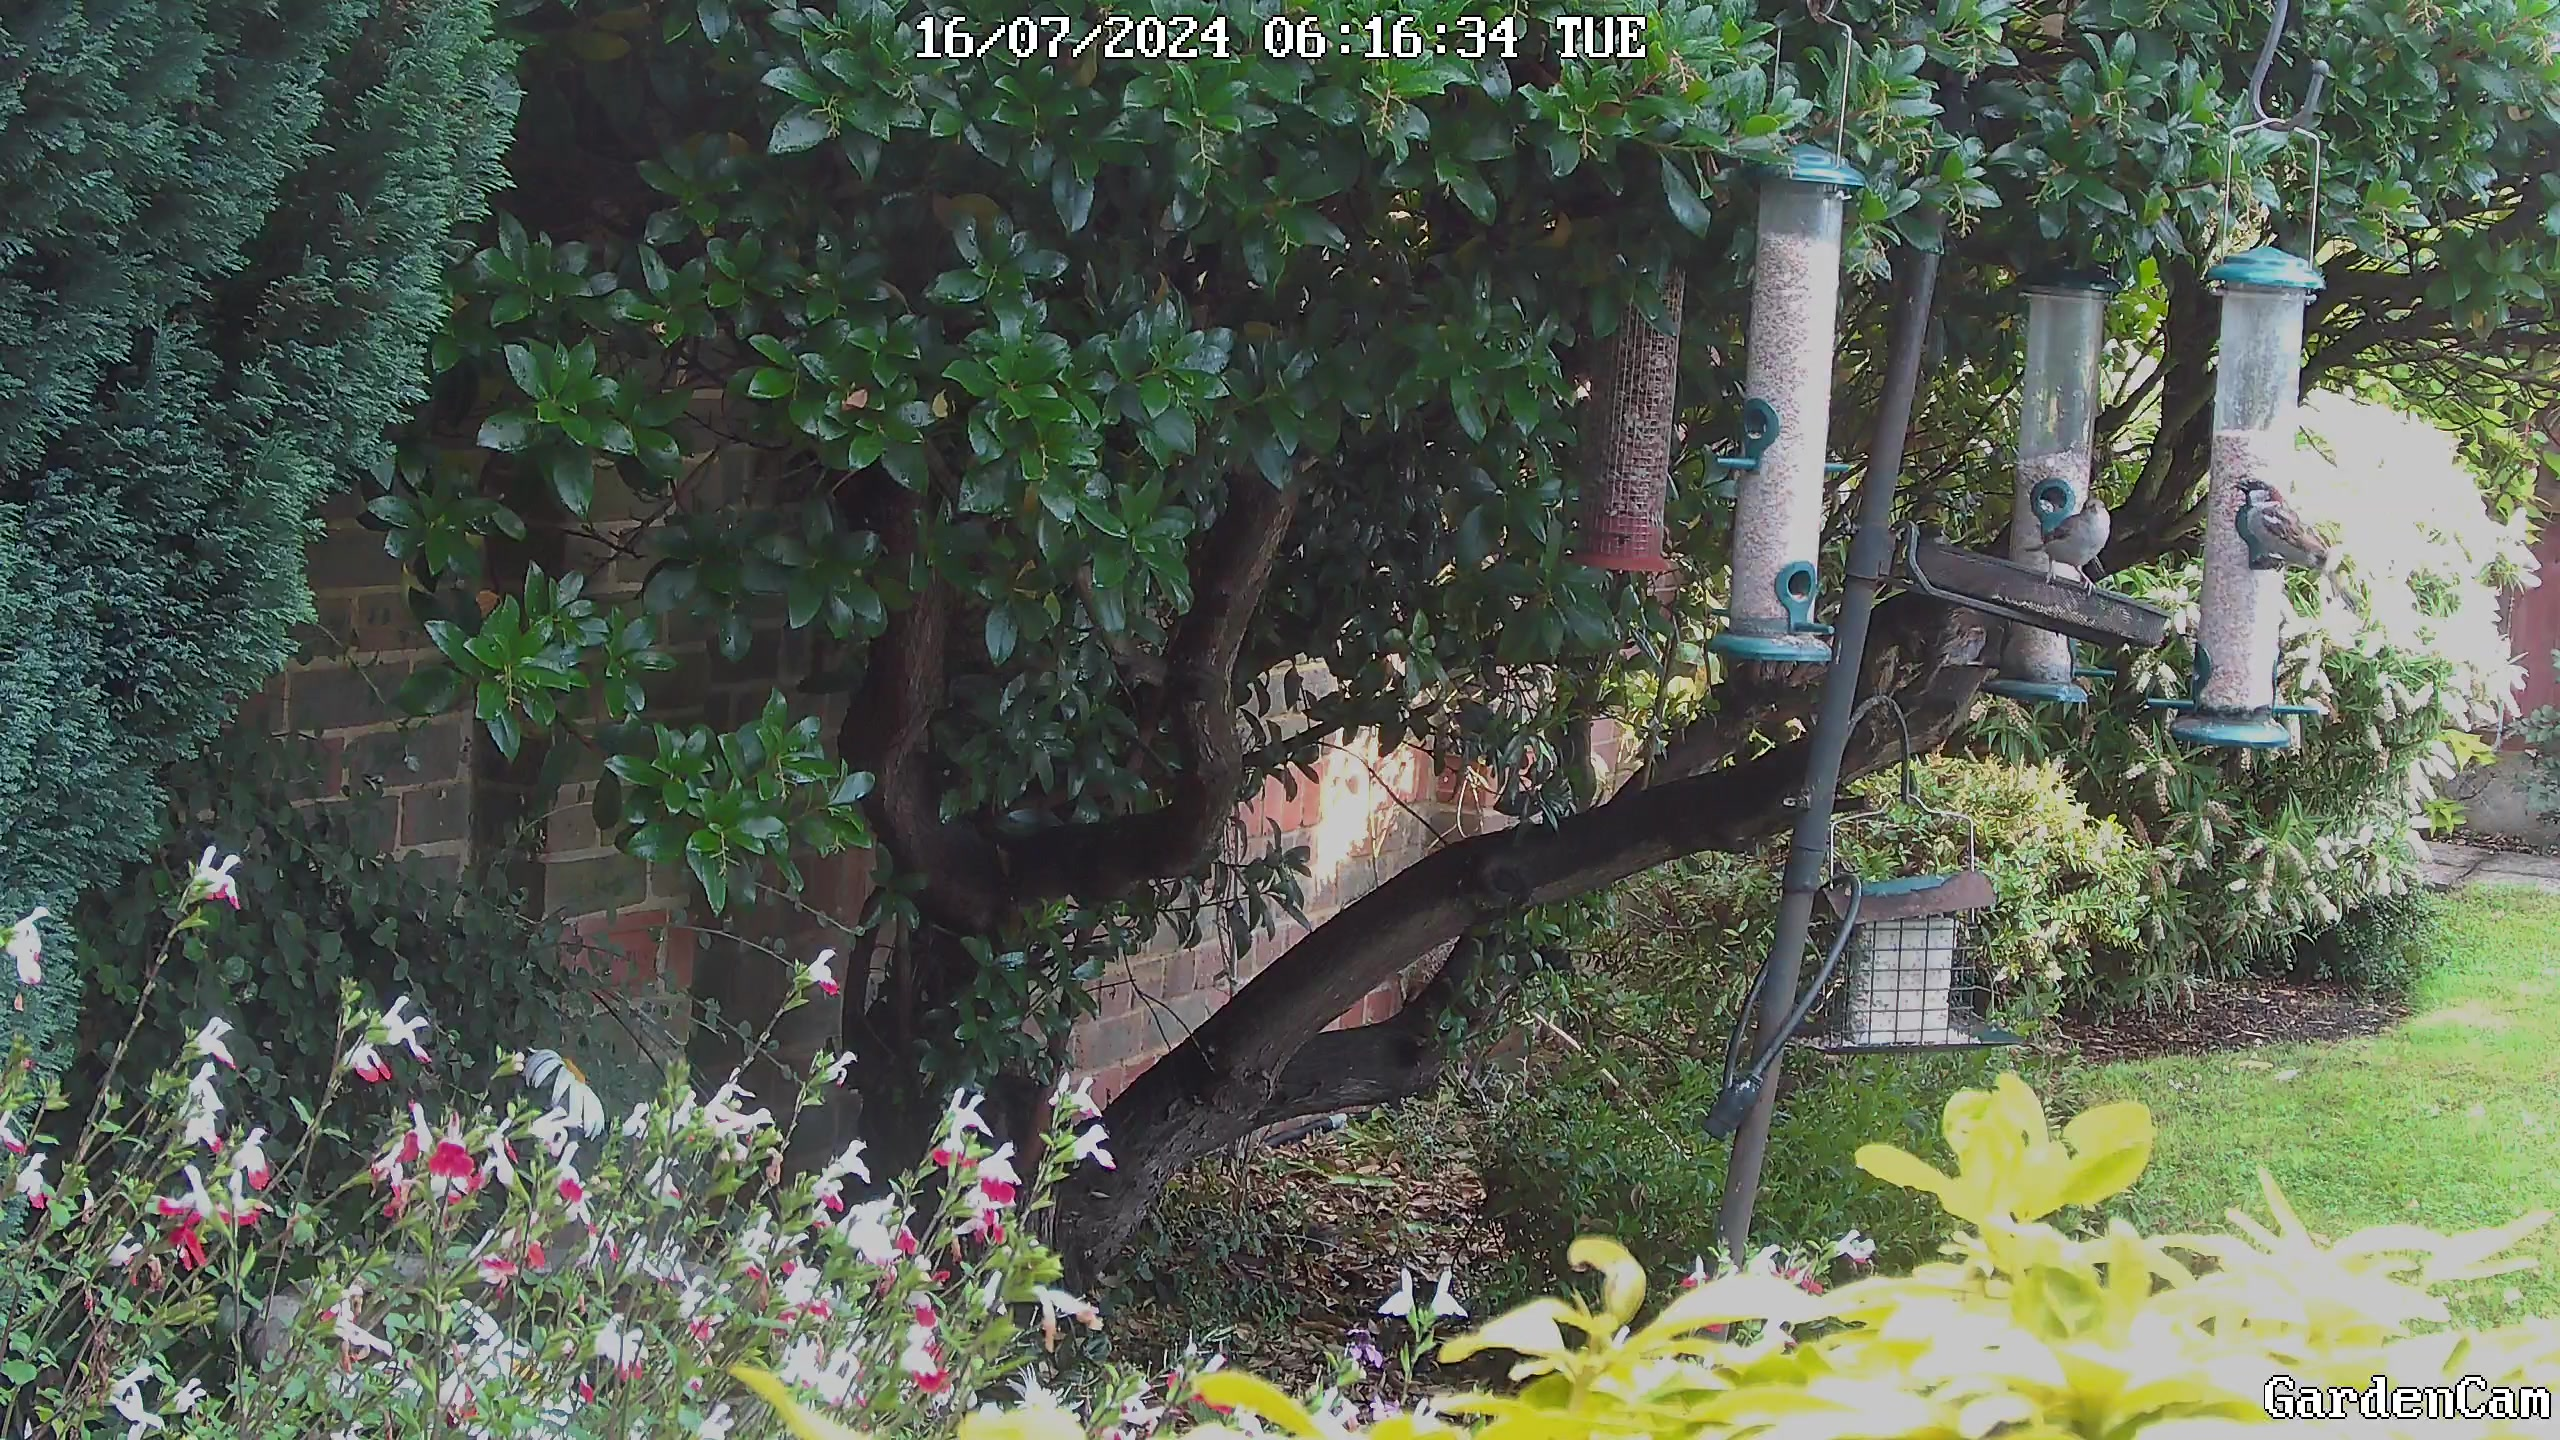House_Sparrow: (2205, 455, 2347, 598), (2034, 478, 2127, 605)
